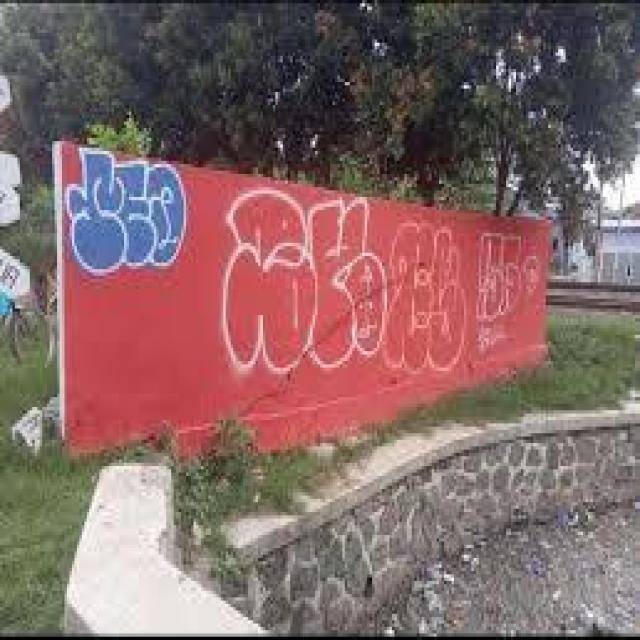nonspitting: (220, 190, 390, 376), (64, 147, 186, 276), (384, 223, 468, 375), (476, 234, 539, 348)
